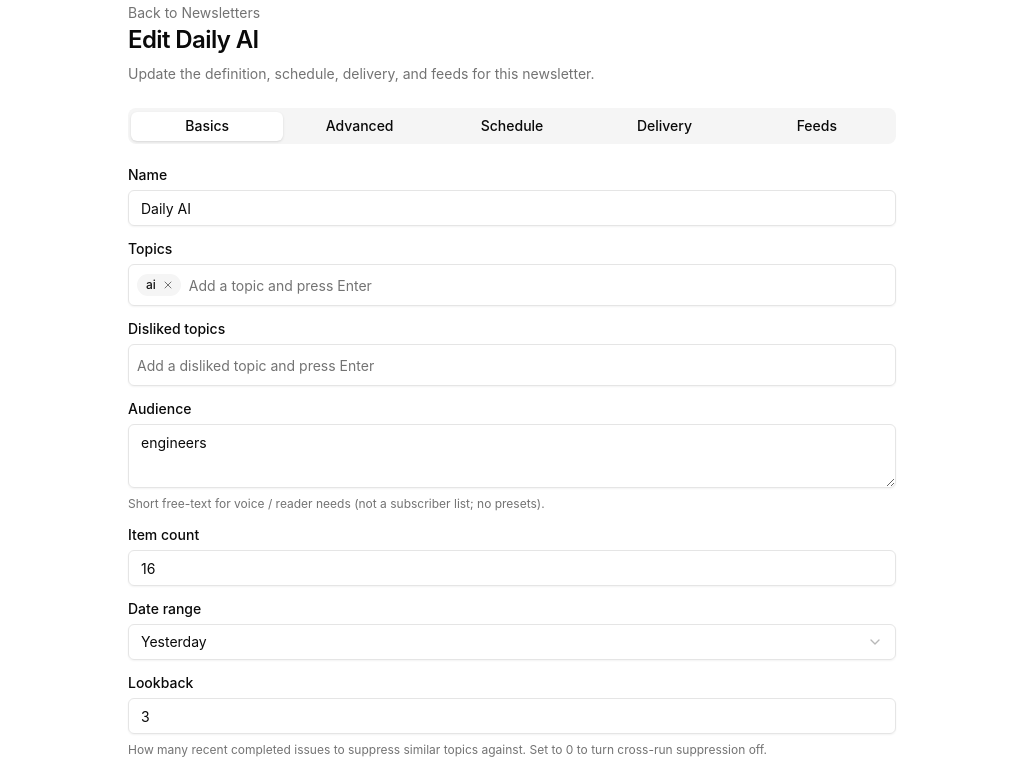
Scenario: NewsletterEditForm — Drafter prompt › Advanced tab renders Drafter prompt heading and textarea prefilled from newsletter
Click the tab "Advanced" at point(360, 126), box top-left (283, 112), bottom-right (436, 140)
(page scrolled)
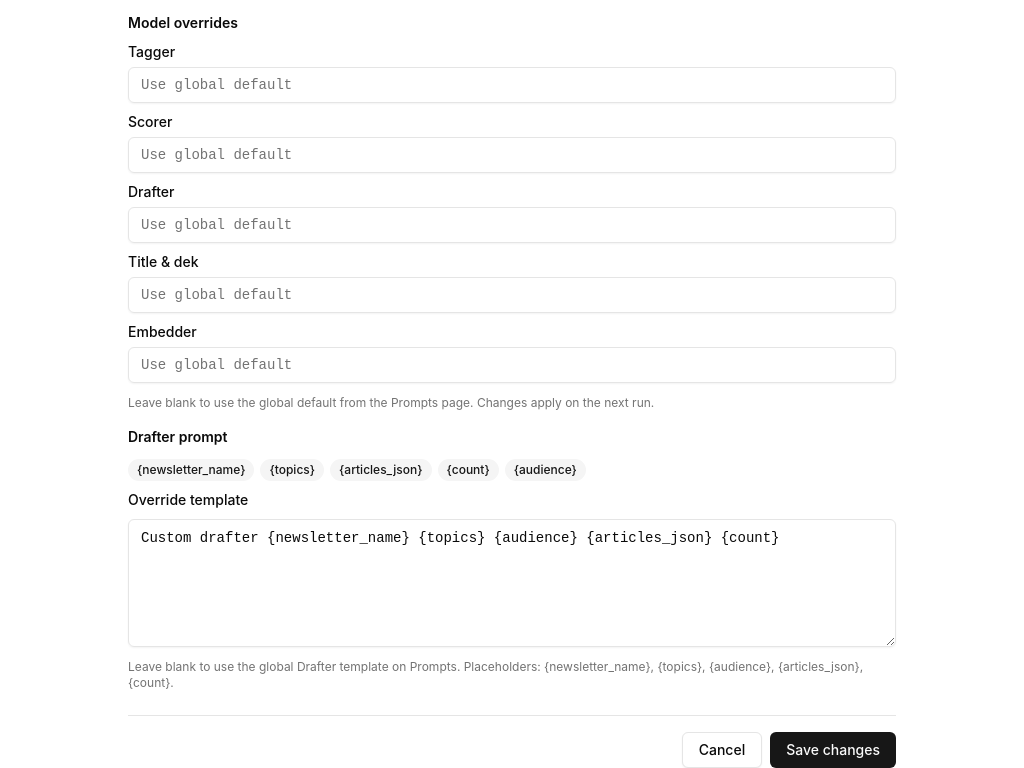
Expected: the heading "Drafter prompt" is shown, top-left (128, 428), bottom-right (228, 445)
Expected: the text box named "drafterPrompt" holds "Custom drafter {newsletter_name} {topics} {audience} {articles_json} {count}", top-left (128, 519), bottom-right (896, 647)
